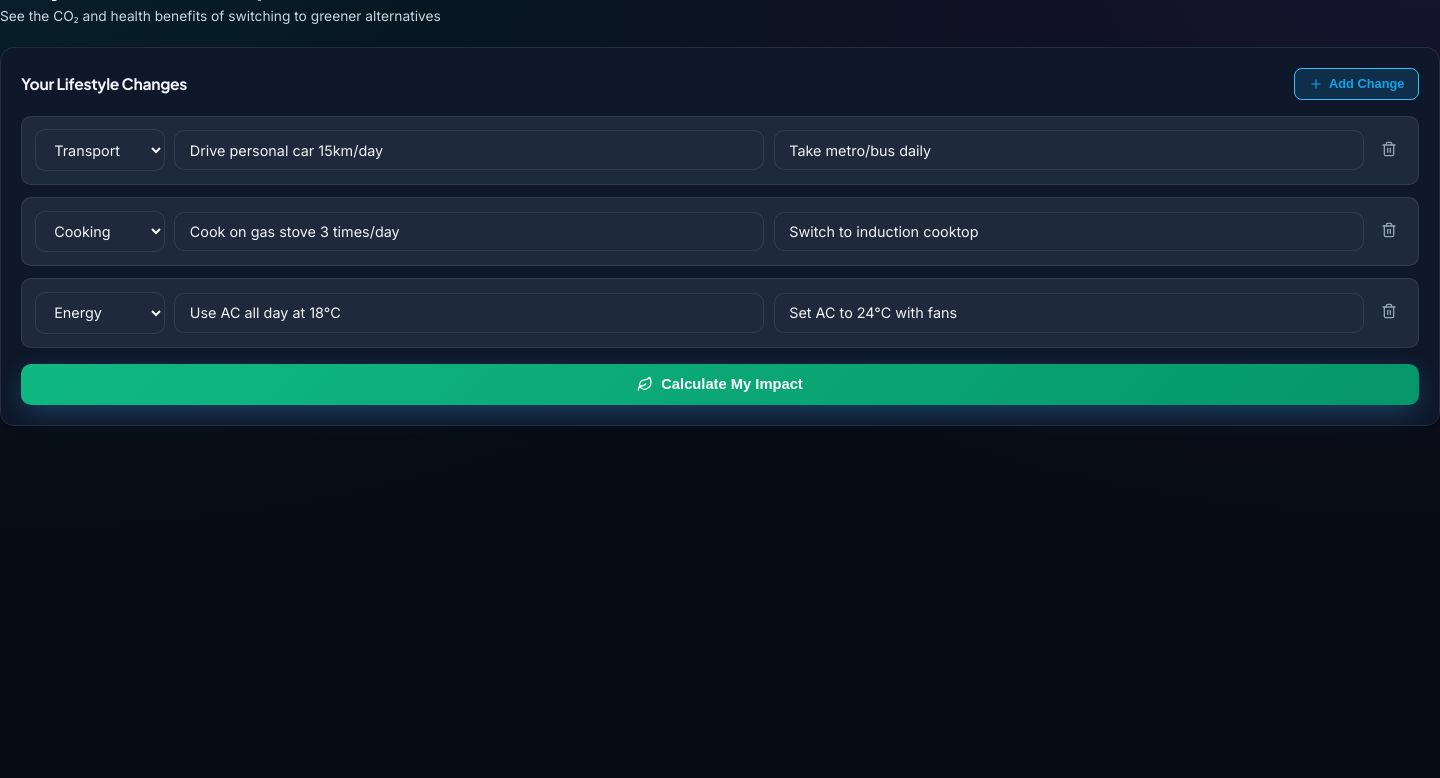
Test: ImpactPanel › allows adding a choice and displays impact analysis results
Click the button with aria-label "add a new lifestyle change" at (1357, 84), box [1294,68,1419,100]
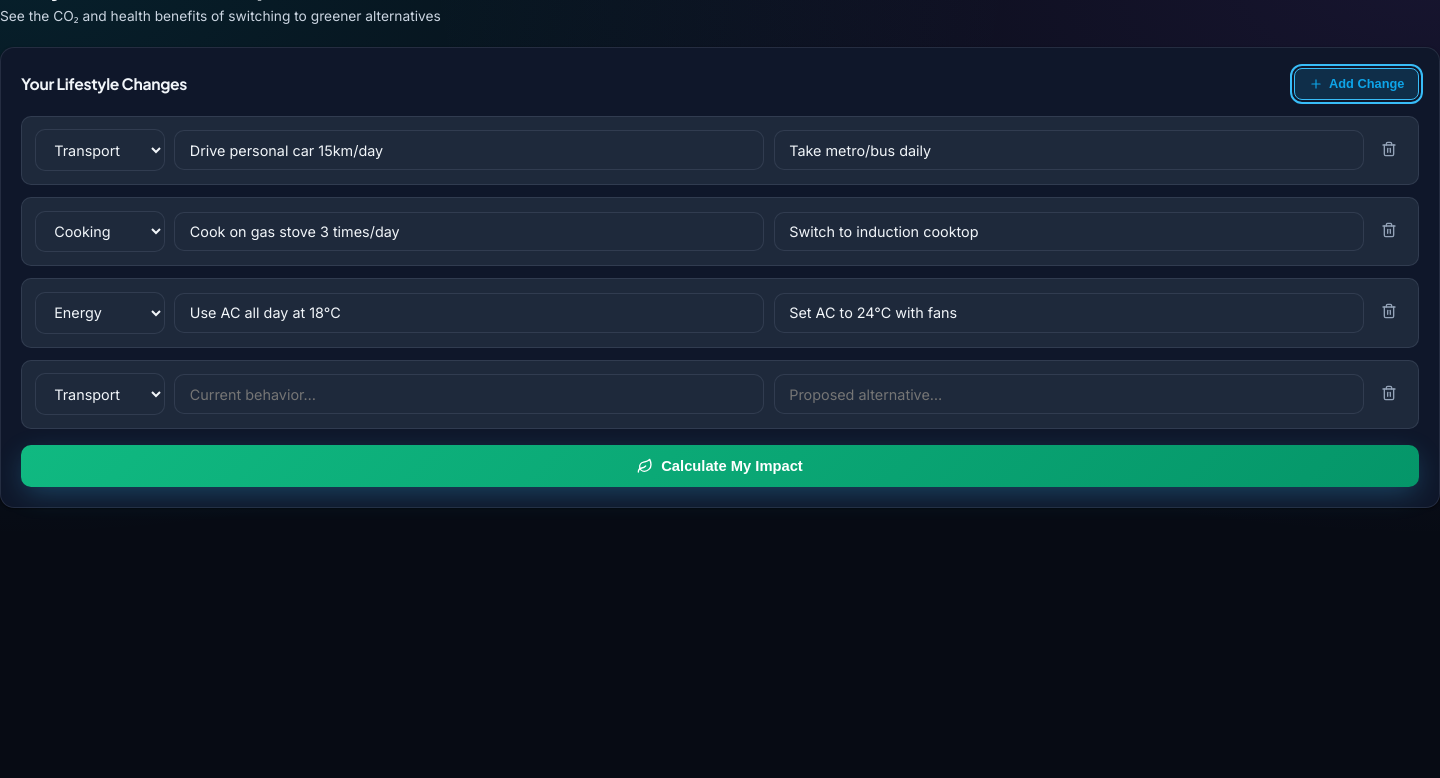
Click the button "Calculate My Impact" at (720, 466), box [21,445,1419,487]
(page scrolled)
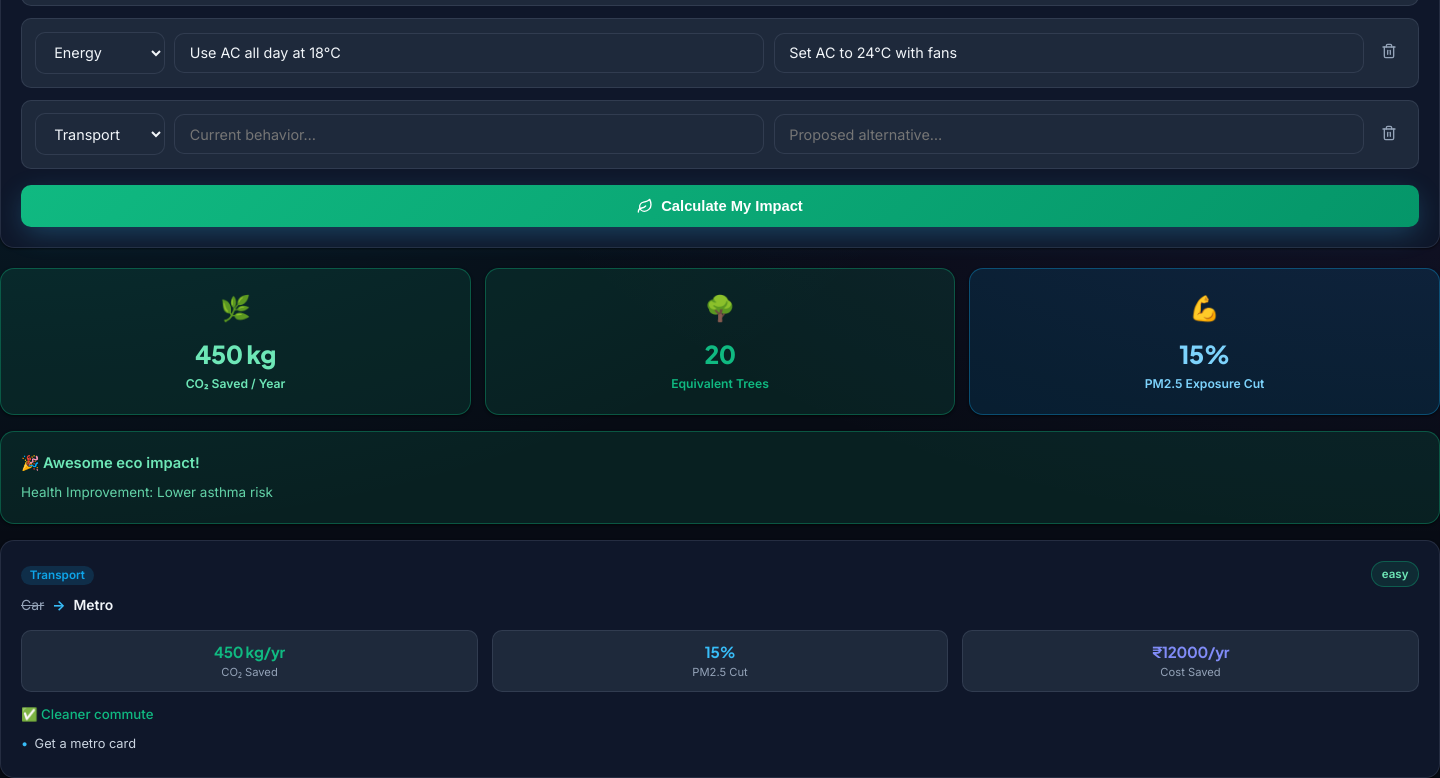
Result: the text "450 kg" is shown at [195,338,276,370]
Result: the text "🎉 Awesome eco impact!" is shown at [21,454,200,472]
Result: the list item "• Get a metro card" is shown at [21,736,136,751]
